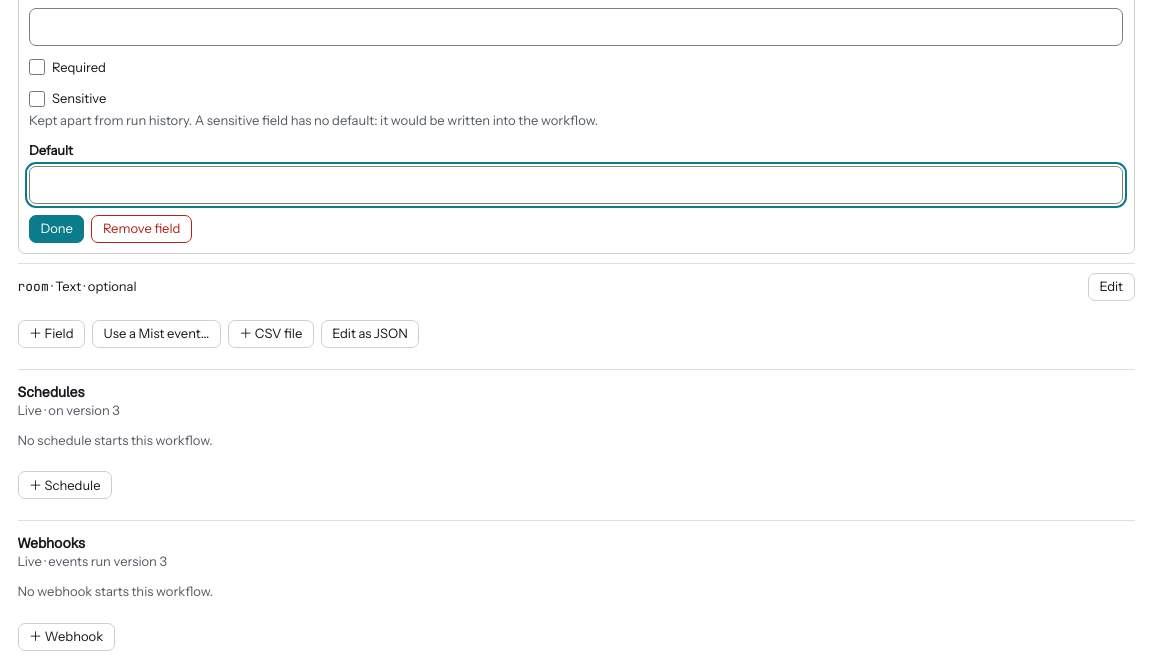
Test case: the input as form fields › opens Go to it's field on its Name when it's edited again, through ＋ Field
(page scrolled)
Step 1. Click the button "＋ Field" → point(51, 334), box [18,320,85,348]
(page scrolled)
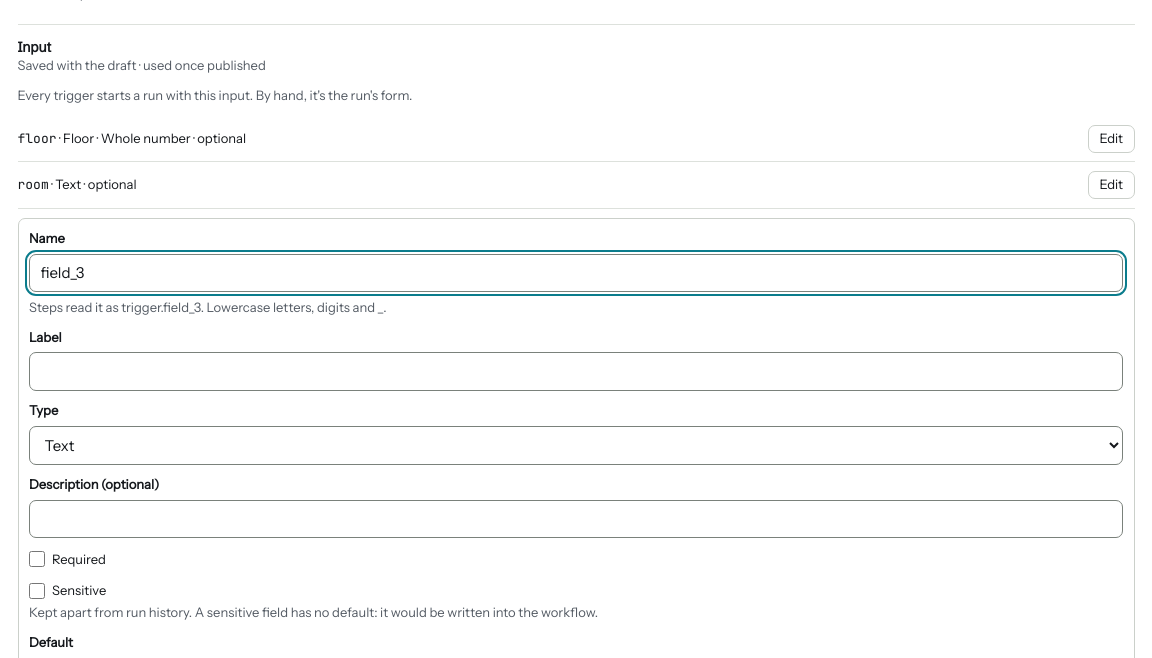
Step 2. Click the button with aria-label "Edit floor" → point(1111, 138), box [1088,124,1134,152]
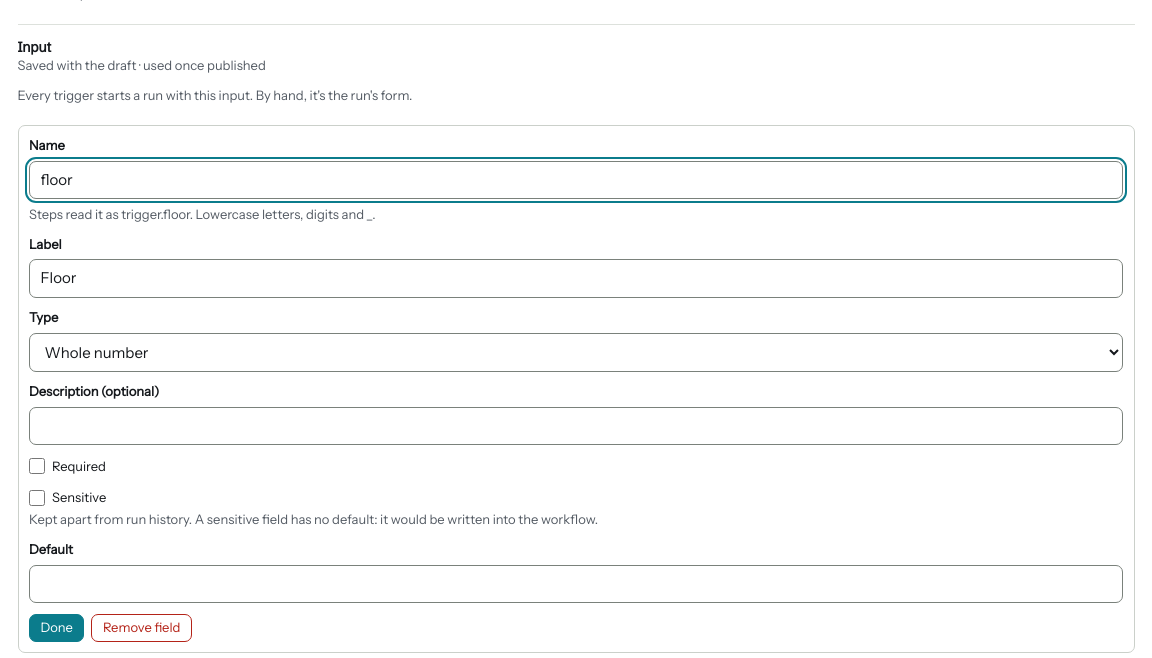
Result: the field labelled "Name" holds "floor" at [29,161,1123,199]
